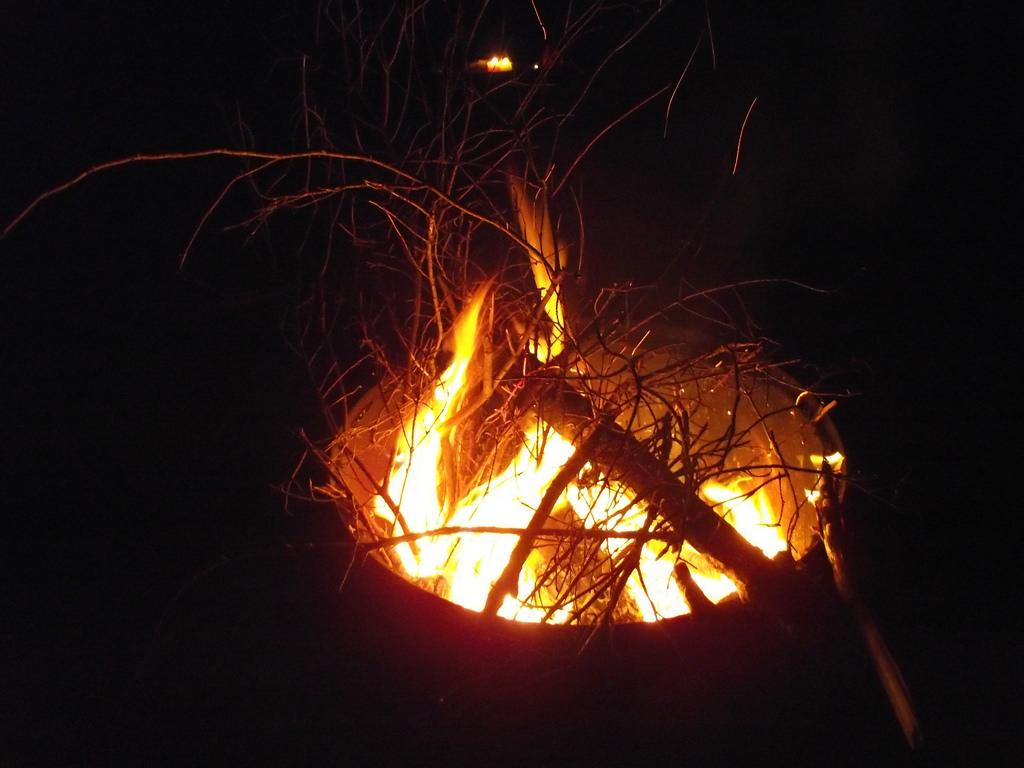fire: (436, 492, 534, 578), (394, 436, 432, 522)
